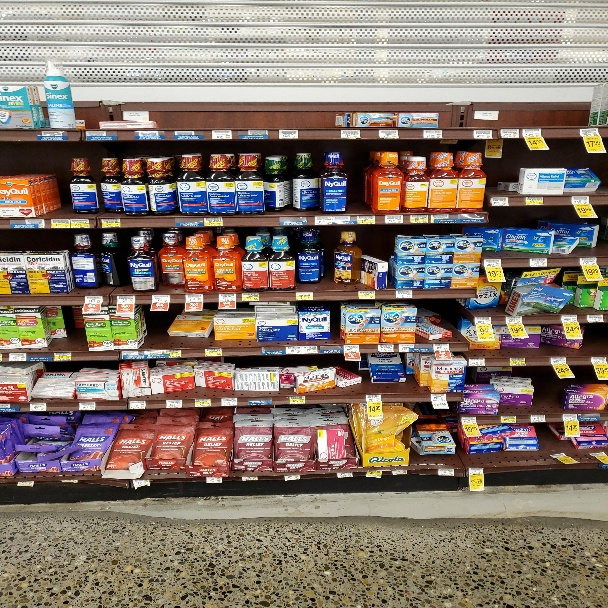All PRICE TAGS: (136, 130, 163, 140), (40, 132, 65, 141), (280, 217, 305, 225), (86, 131, 110, 139), (579, 128, 600, 137), (71, 219, 89, 229), (204, 217, 223, 226), (280, 129, 299, 138), (26, 219, 45, 228), (525, 196, 544, 205), (174, 130, 195, 138), (424, 129, 442, 138), (380, 129, 398, 138), (342, 129, 360, 138), (529, 258, 547, 267), (51, 219, 69, 228), (212, 130, 232, 138), (509, 357, 526, 366), (580, 257, 597, 266), (491, 197, 508, 206), (334, 216, 353, 224), (84, 296, 103, 304), (53, 352, 72, 360), (102, 219, 120, 227), (474, 130, 492, 138), (474, 317, 492, 325), (485, 259, 501, 268), (572, 196, 590, 204), (524, 129, 542, 137), (501, 130, 519, 138), (185, 294, 202, 302), (9, 353, 26, 361), (29, 403, 46, 411), (550, 357, 567, 365), (505, 316, 522, 324), (561, 315, 578, 323), (587, 315, 604, 323), (314, 217, 333, 224), (289, 396, 305, 404), (221, 398, 237, 406), (130, 401, 146, 409), (301, 346, 317, 354), (396, 290, 412, 298), (358, 290, 374, 298), (242, 293, 258, 301), (219, 293, 235, 301), (79, 402, 95, 410), (530, 415, 546, 423), (591, 356, 607, 364), (469, 358, 485, 366), (412, 215, 428, 223), (356, 216, 374, 223), (152, 295, 170, 302), (117, 295, 135, 302), (438, 468, 453, 476), (205, 348, 222, 355), (163, 349, 180, 356), (386, 216, 403, 223), (262, 347, 281, 353), (122, 352, 141, 358), (431, 393, 445, 401), (194, 399, 210, 406), (433, 343, 449, 350), (343, 345, 359, 352), (296, 292, 312, 299), (366, 394, 381, 401), (167, 400, 182, 407), (378, 344, 393, 351), (461, 417, 476, 424), (434, 215, 449, 222), (287, 345, 300, 353), (132, 480, 149, 486), (400, 344, 414, 351), (502, 416, 516, 423), (206, 477, 222, 483), (562, 415, 578, 421), (284, 474, 299, 480), (469, 468, 484, 474), (367, 470, 381, 476), (338, 472, 352, 478), (461, 219, 486, 222), (17, 482, 34, 486), (241, 476, 258, 480), (392, 471, 408, 474)
